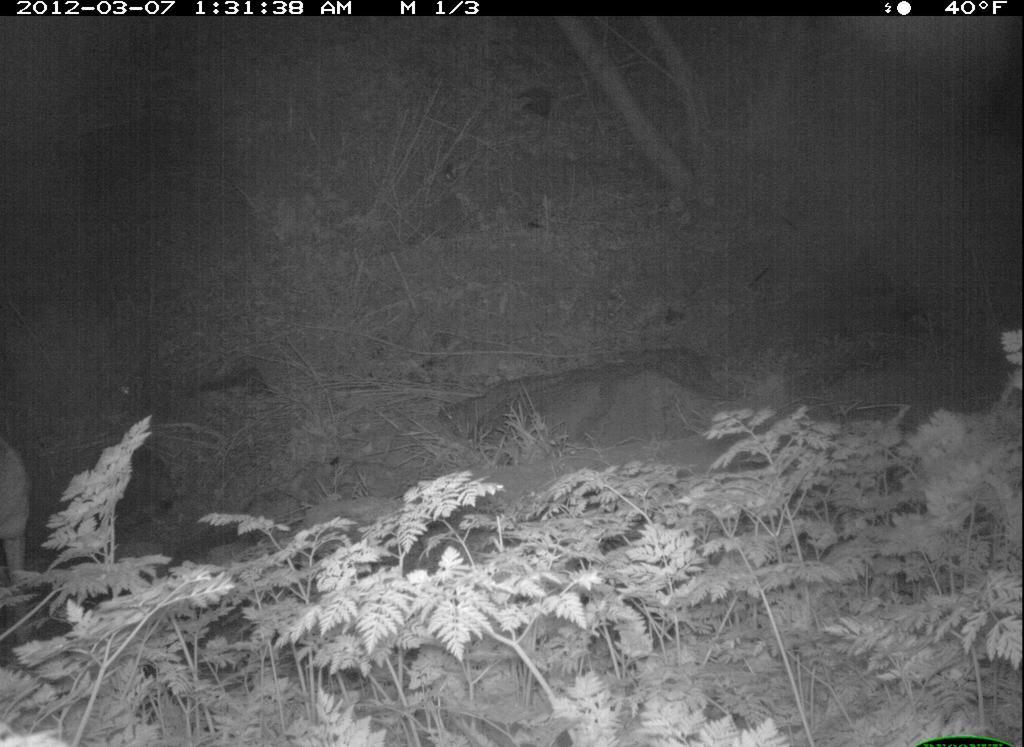coyote: (3, 437, 54, 667)
